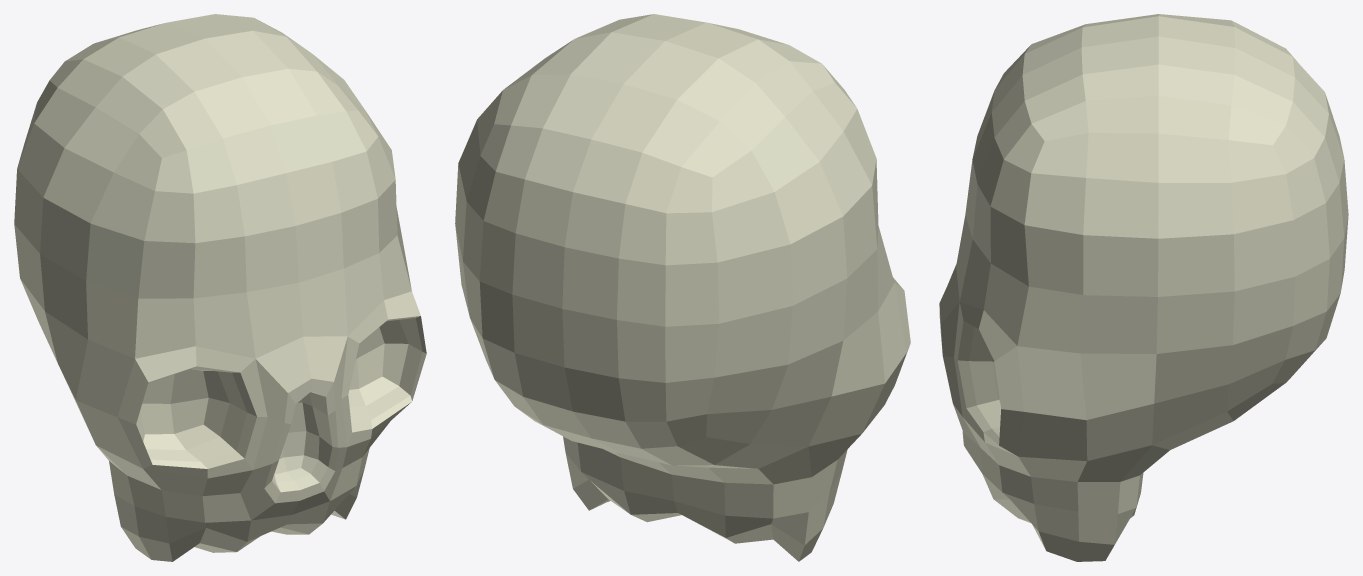
The model's file is calaquita.fbx.
3 views of the same model, side by side, from view 1: azimuth 30°, elevation 25°; view 2: azimuth 150°, elevation 25°; view 3: azimuth 270°, elevation 25° (orthographic). The views are drawn at different scales.
Parts seen in each view (by area): view 1: calaquita; view 2: calaquita; view 3: calaquita.
Part boxes in pixels (<box>): calaquita: <box>14,14,426,561</box>; calaquita: <box>455,14,910,561</box>; calaquita: <box>939,14,1348,561</box>.
Size of the model in its own units: 136 by 186 by 143.
